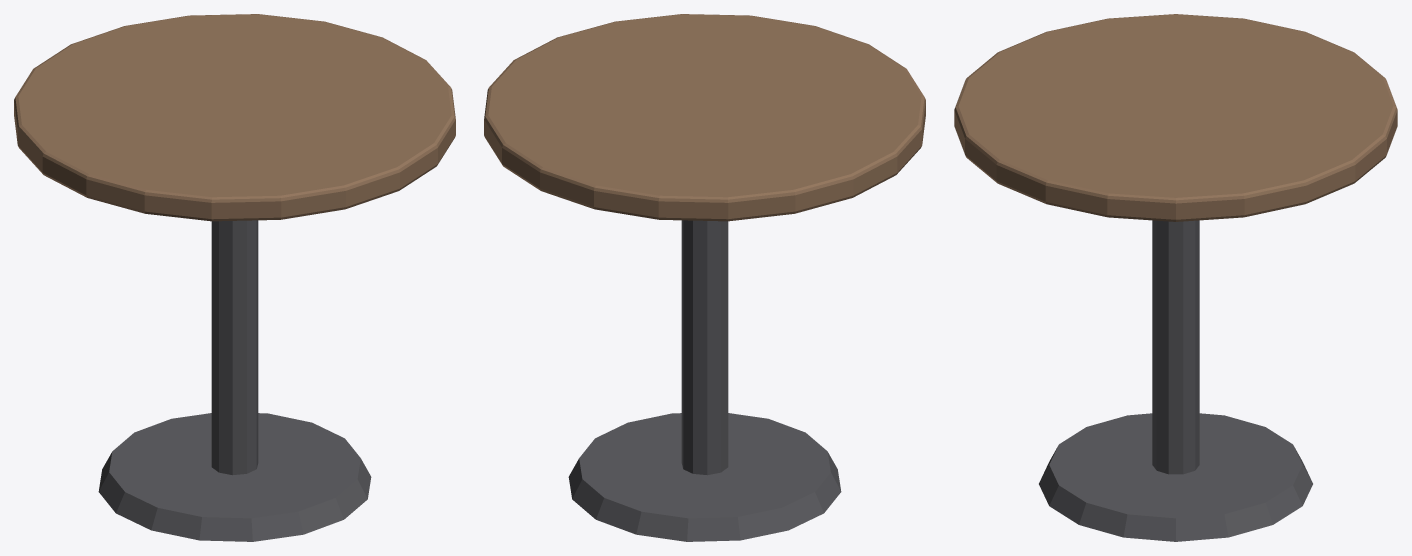
Rendered from table.glb.
3 renders of one model, left to right at view 1: azimuth 30°, elevation 25°; view 2: azimuth 150°, elevation 25°; view 3: azimuth 270°, elevation 25°, orthographic.
Parts seen in each view (by area): view 1: table_top, table_base, table_pole; view 2: table_top, table_base, table_pole; view 3: table_top, table_base, table_pole.
Boxes of the visible parts, x1=… form: table_top: x1=14, y1=14, x2=455, y2=221; table_base: x1=98, y1=413, x2=371, y2=541; table_pole: x1=211, y1=220, x2=258, y2=475; table_top: x1=484, y1=14, x2=925, y2=221; table_base: x1=568, y1=413, x2=841, y2=541; table_pole: x1=681, y1=220, x2=728, y2=475; table_top: x1=954, y1=14, x2=1397, y2=221; table_base: x1=1039, y1=413, x2=1312, y2=541; table_pole: x1=1152, y1=220, x2=1199, y2=474.
Bounding box in the file's own units: 0.84 × 0.79 × 0.84.
